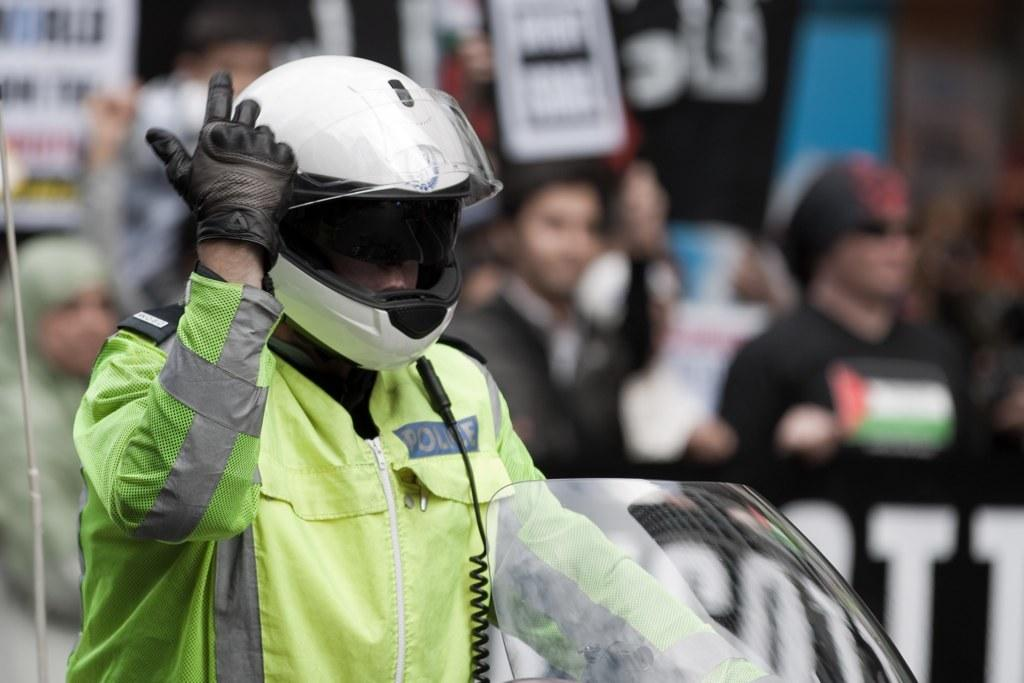helmet: (200, 55, 504, 371)
nohelmet: (781, 158, 923, 318), (492, 150, 621, 311)
